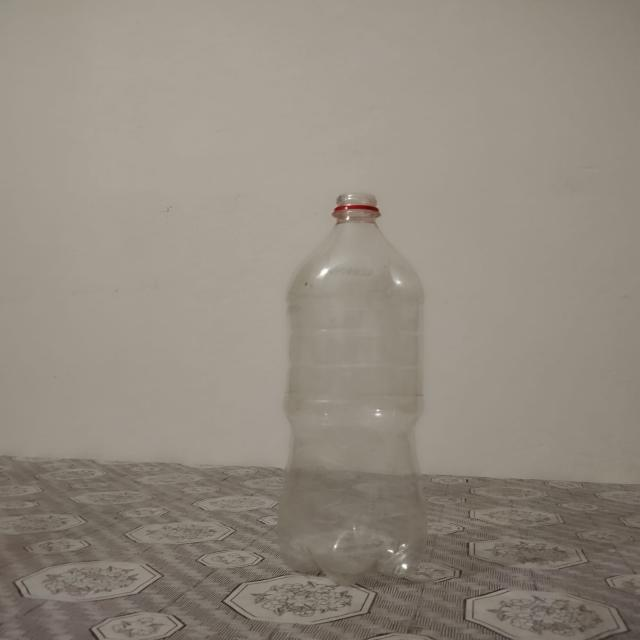bottle: (282, 189, 421, 581)
